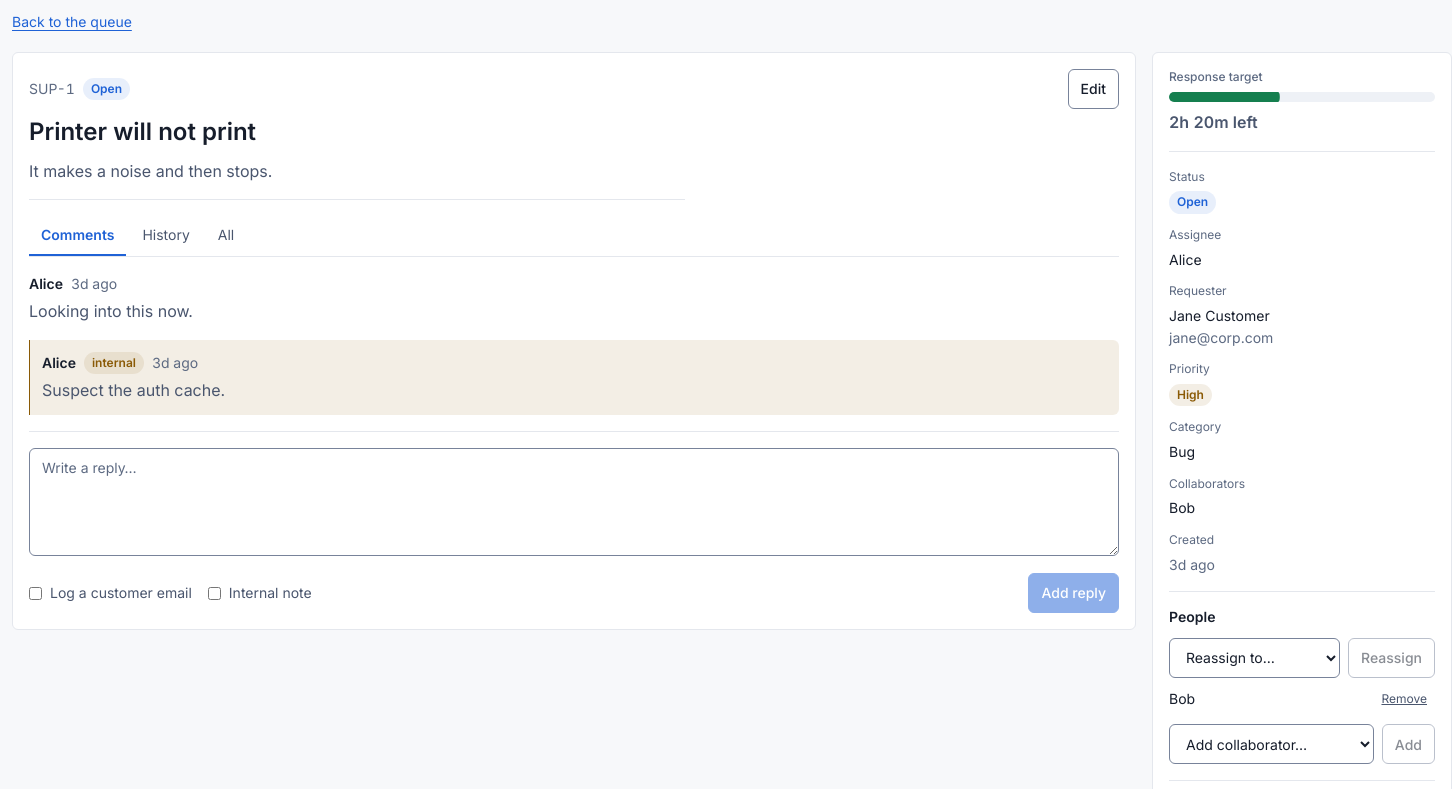
it: TicketDetailPage › people controls › surfaces the server's reason when a reassignment is refused
Select "Carol" in the 1st dropdown named "Reassign to" at (1255, 658), box [1169, 638, 1340, 678]
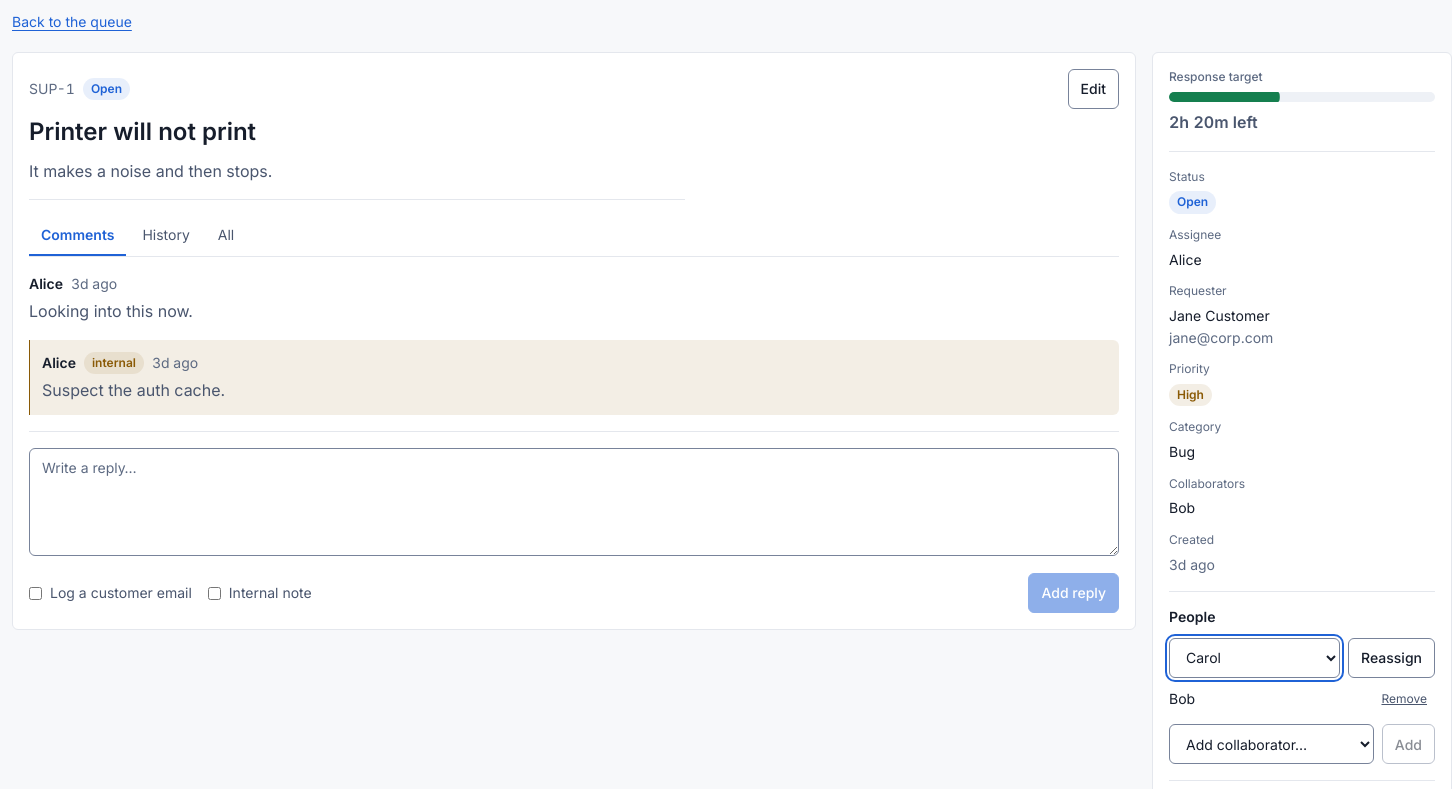
Click the button "Reassign" at (1392, 658), box [1348, 638, 1435, 678]
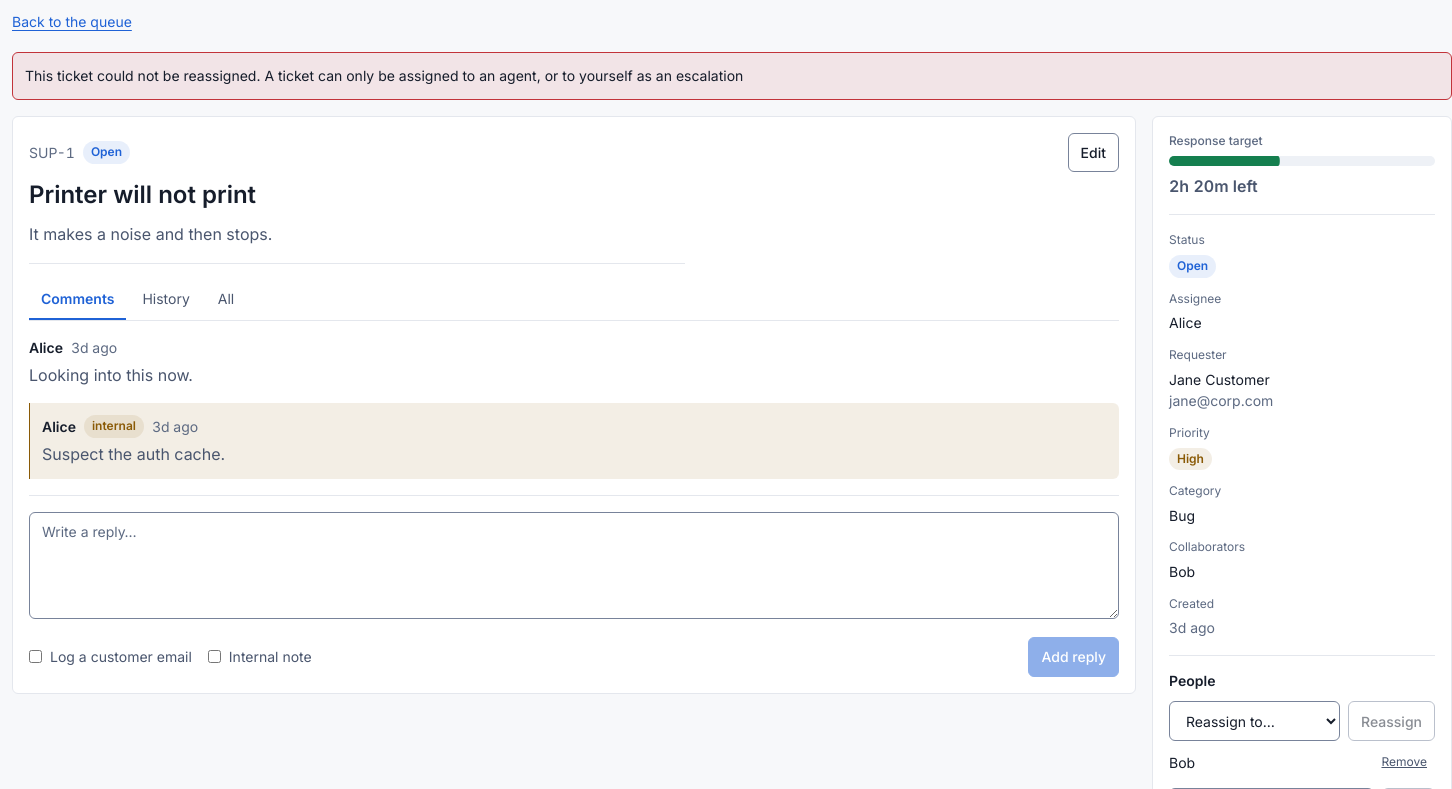
Now the text "only be assigned to an agent" is shown, box [25, 67, 743, 84]
